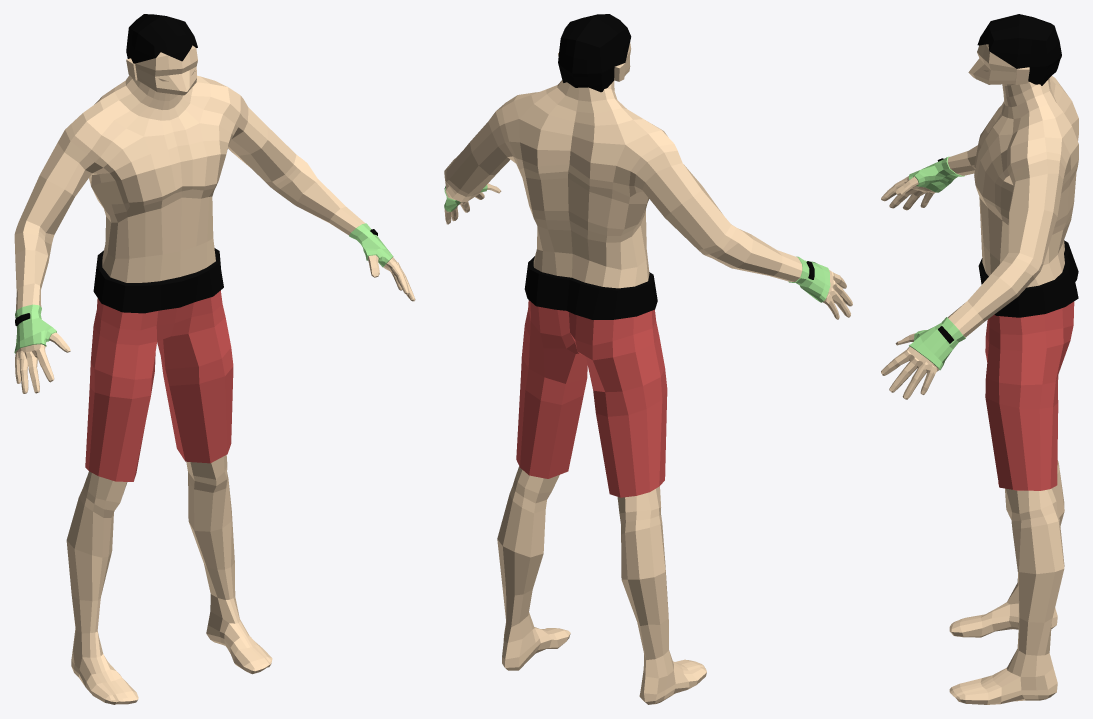
File: ranger_mesh.glb
3 renders of one model, left to right at view 1: azimuth 30°, elevation 25°; view 2: azimuth 150°, elevation 25°; view 3: azimuth 270°, elevation 25°, orthographic.
Parts seen in each view (by area): view 1: fighter_03.001; view 2: fighter_03.001; view 3: fighter_03.001.
Boxes of the visible parts, x1,y1,x2,y2 form: fighter_03.001: (14, 14, 415, 704); fighter_03.001: (444, 14, 852, 704); fighter_03.001: (881, 14, 1078, 704).
Size of the model in its own units: 0.0136 by 0.0216 by 0.00596.
Materials: 1 (1 with a texture image).
